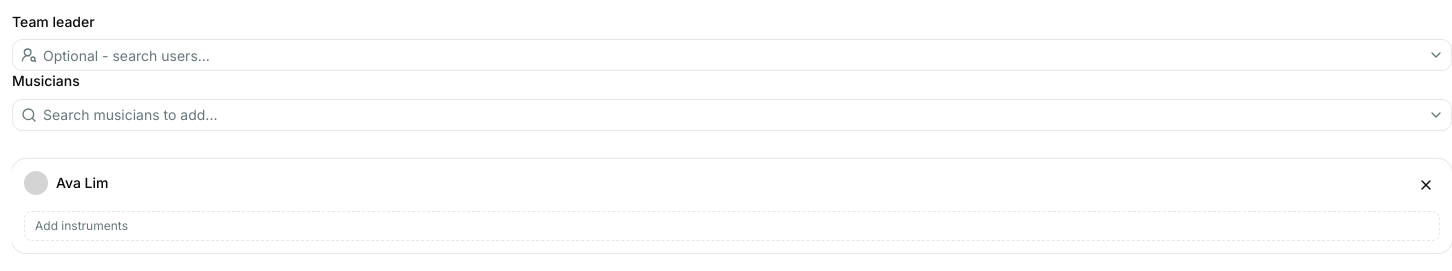
TeamMembershipFields › excludes already-added musicians from the combobox's candidate list
This screenshot has width=1452, height=271.
Step 1. Click the dropdown with placeholder "Search musicians to add..." → click(730, 114), box [37,98,1424,130]
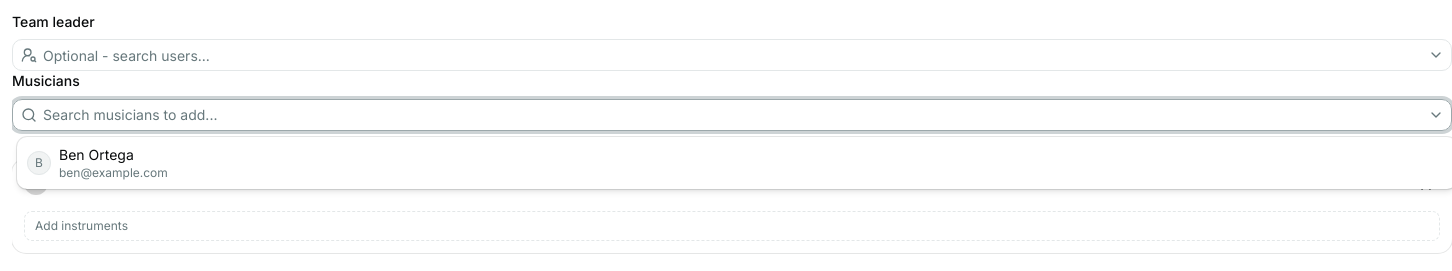
Expected: the text "Ben Ortega" is shown, [59,146,134,163]
